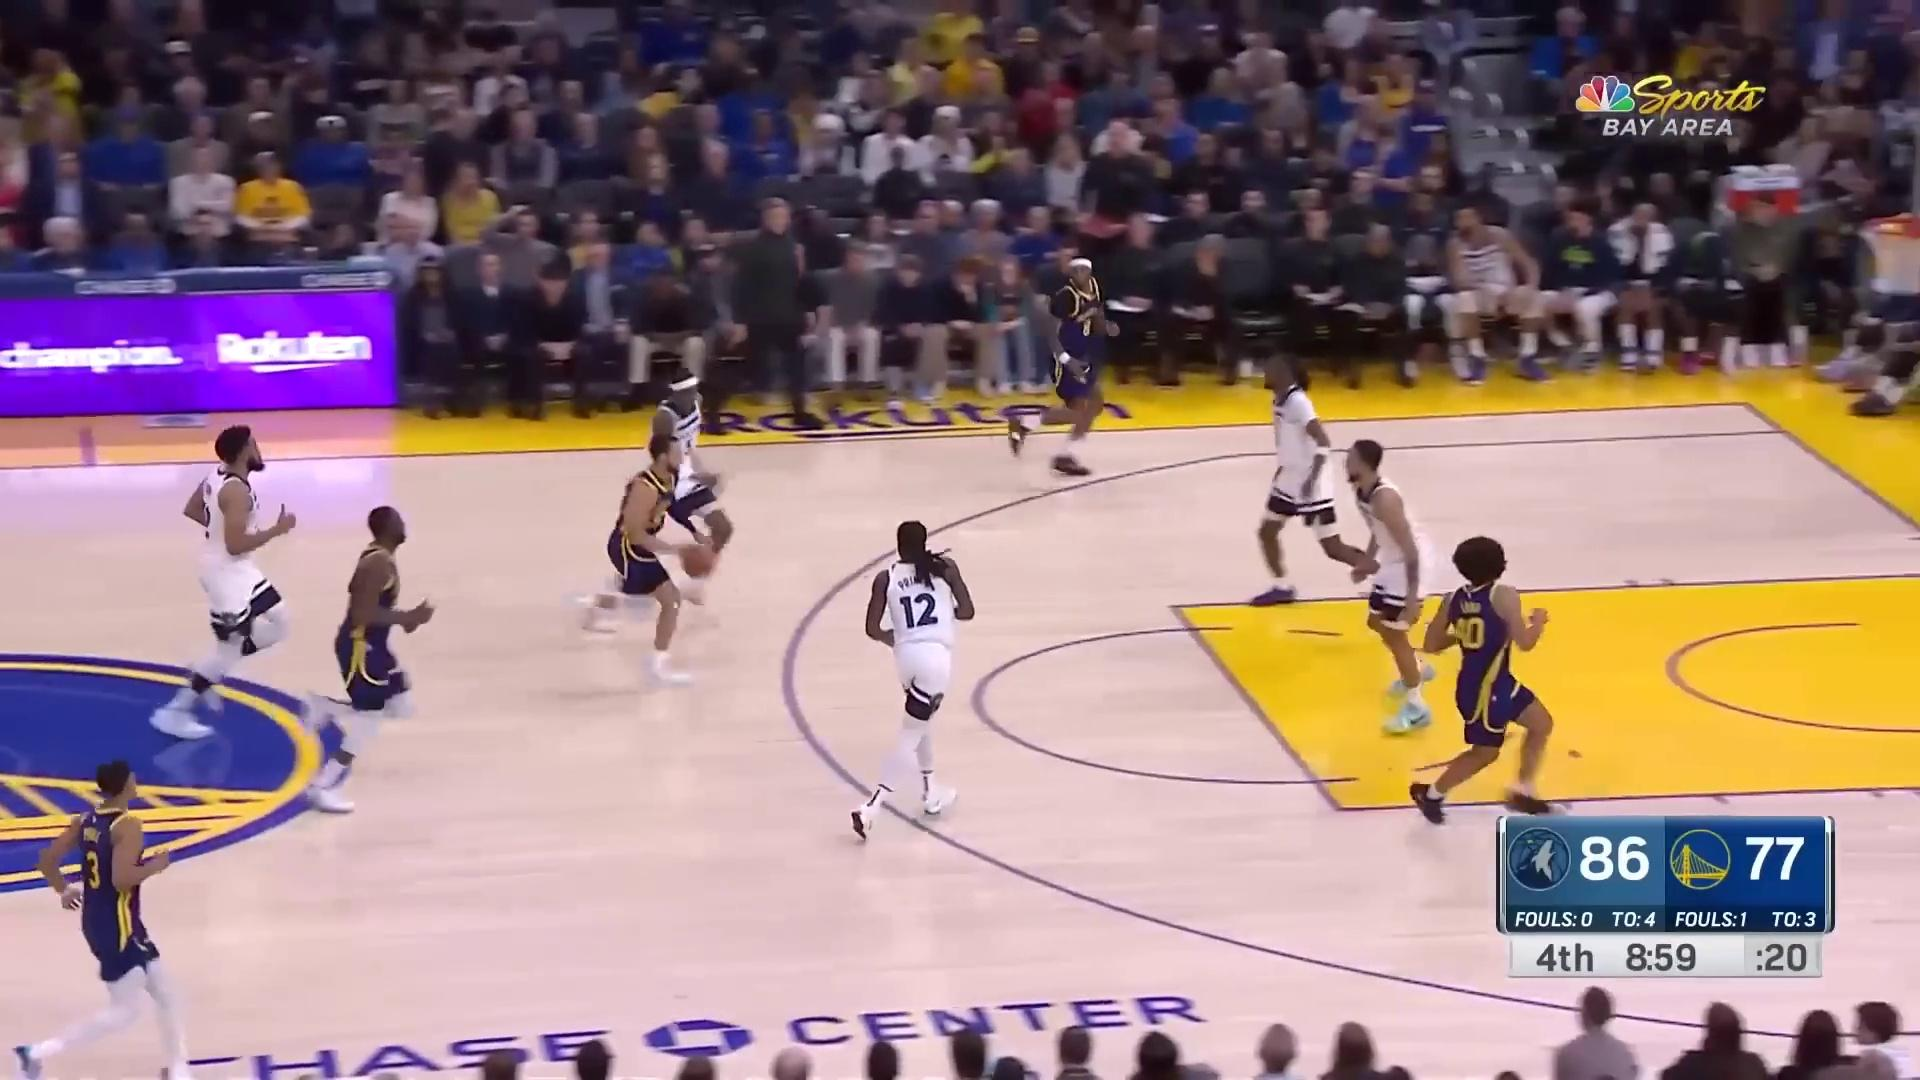Ball: (678, 529, 719, 581)
Player: (13, 763, 199, 1080), (1411, 529, 1564, 833), (151, 424, 293, 733), (304, 498, 438, 821), (856, 518, 973, 846), (1254, 349, 1384, 626), (578, 433, 713, 689), (998, 261, 1123, 483), (634, 369, 734, 638), (1348, 439, 1434, 741)
Rim: (1856, 113, 1920, 308)
